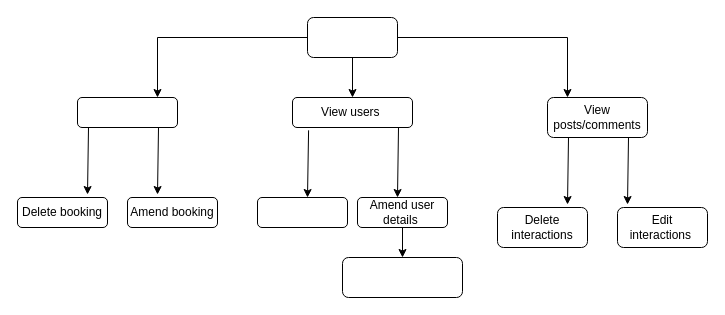
The diagram is 725 pixels wide and 315 high, and some of its shapes have lost their labels. Each missing label, with the centre of its shape:
"Admin" belongs at (x=352, y=37).
"Delete user" belongs at (x=302, y=212).
"Reset user passwords with form" belongs at (x=402, y=277).
"View bookings" belongs at (x=127, y=112).
